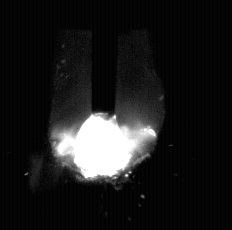arame: (92, 0, 117, 117)
poca: (50, 0, 162, 230)
